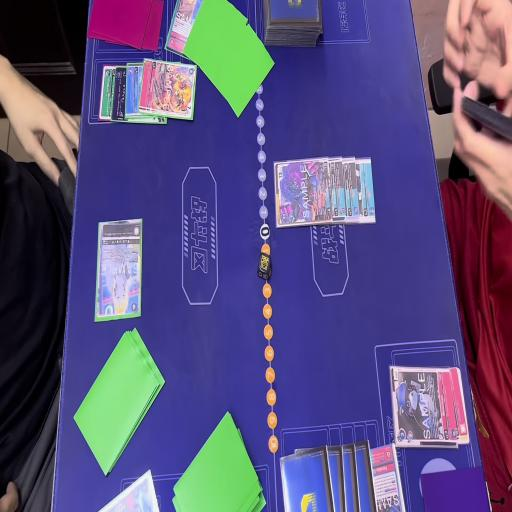card: (92, 219, 141, 326), (394, 366, 457, 447), (274, 156, 331, 230), (137, 57, 199, 118), (367, 443, 408, 512), (162, 0, 206, 54), (448, 362, 469, 448), (354, 153, 376, 228), (124, 60, 147, 123), (96, 66, 118, 127), (330, 154, 348, 225), (113, 64, 131, 125), (345, 155, 360, 227)
